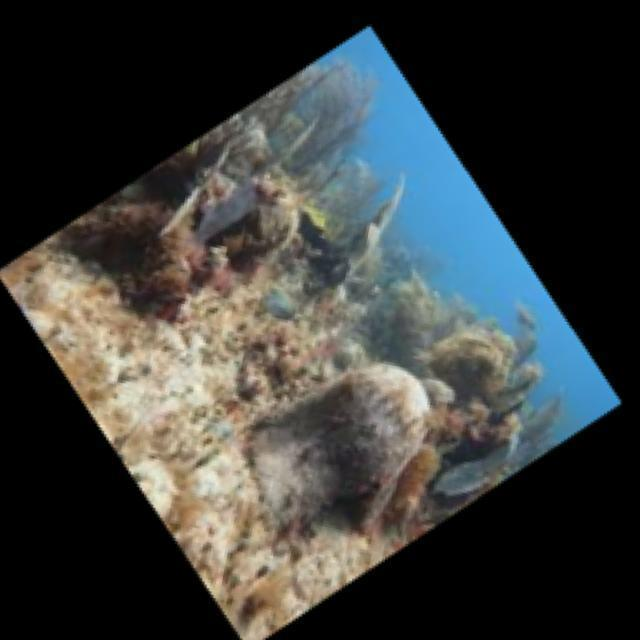Dead Coral: (207, 291, 477, 559), (258, 133, 437, 344), (406, 274, 569, 482)
